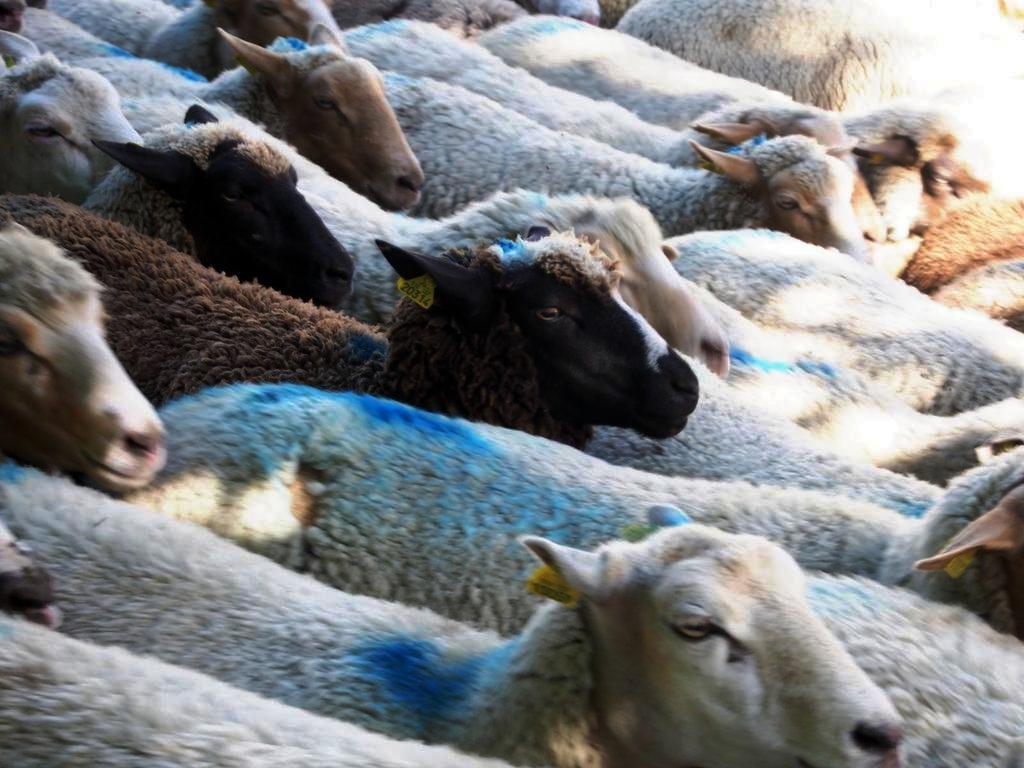Sheep: (0, 0, 1023, 767), (0, 483, 910, 768), (173, 384, 1024, 642), (0, 208, 710, 448), (395, 89, 912, 268), (0, 205, 196, 528), (205, 6, 459, 225), (0, 0, 163, 226)
